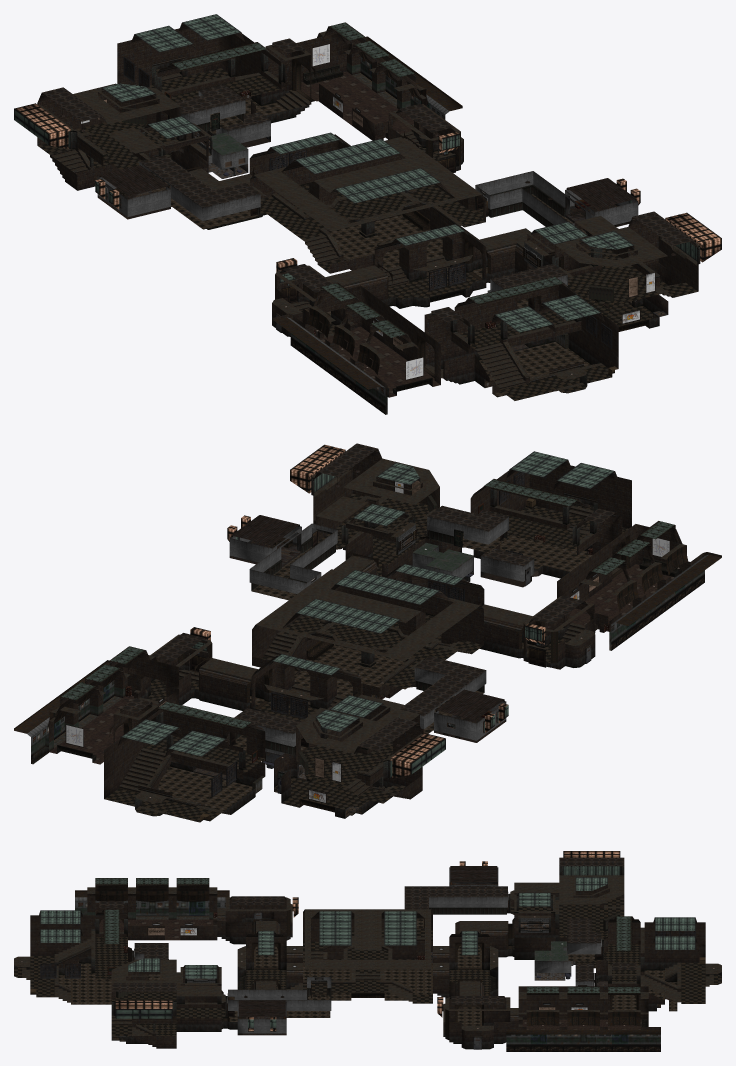
File: urbanwarfare1_metrolevel.glb
3 renders of one model, top to bottom at view 1: azimuth 30°, elevation 25°; view 2: azimuth 150°, elevation 25°; view 3: azimuth 270°, elevation 25°, orthographic. The views are drawn at different scales.
Parts seen in each view (by area): view 1: urbanwarfare1_metrolevel; view 2: urbanwarfare1_metrolevel; view 3: urbanwarfare1_metrolevel.
Part boxes in pixels (left/top/right/bottom): urbanwarfare1_metrolevel: left=14, top=14, right=721, bottom=414; urbanwarfare1_metrolevel: left=14, top=443, right=721, bottom=822; urbanwarfare1_metrolevel: left=14, top=851, right=721, bottom=1051.
Bounding box in the file's own units: 29.44 × 5.44 × 55.68.
103 materials, 103 textured.
